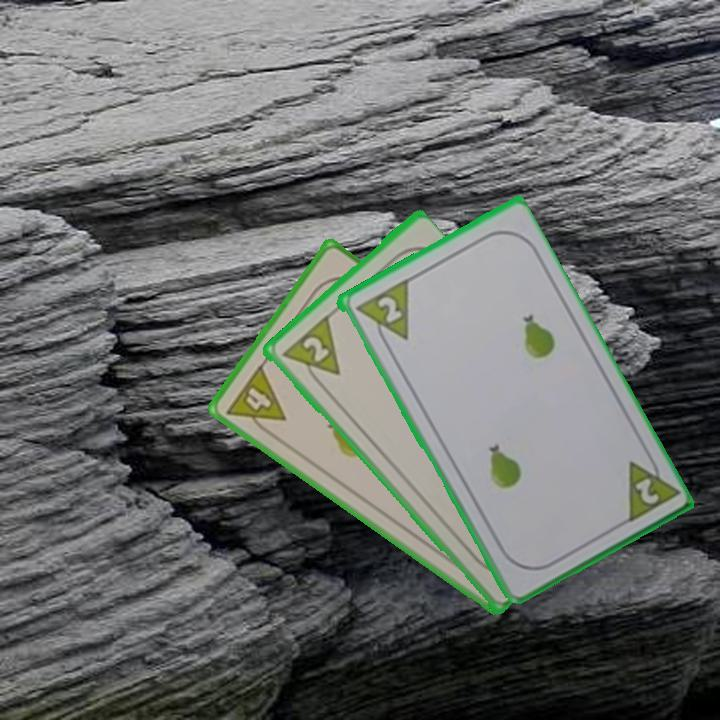2p: (277, 313, 343, 392), (373, 292, 405, 326), (631, 473, 661, 508)
4p: (222, 360, 289, 441)
